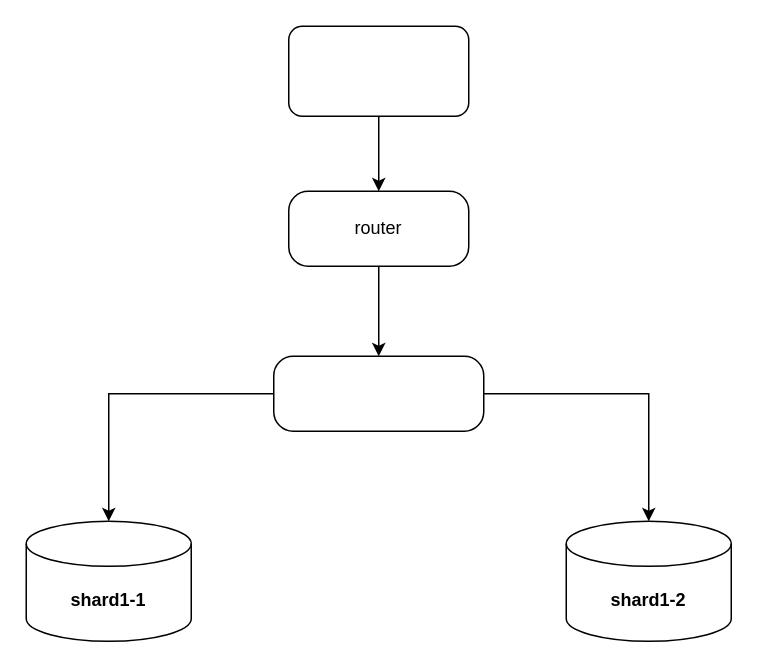
This 758x668 diagram has some shape labels left out. Each missing label, with the centre of its shape:
"configServer" belongs at point 378,393.
"pymongo-api" belongs at point 378,70.
